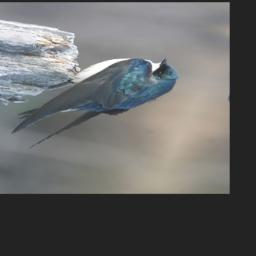Swallow: (2, 43, 186, 166)
